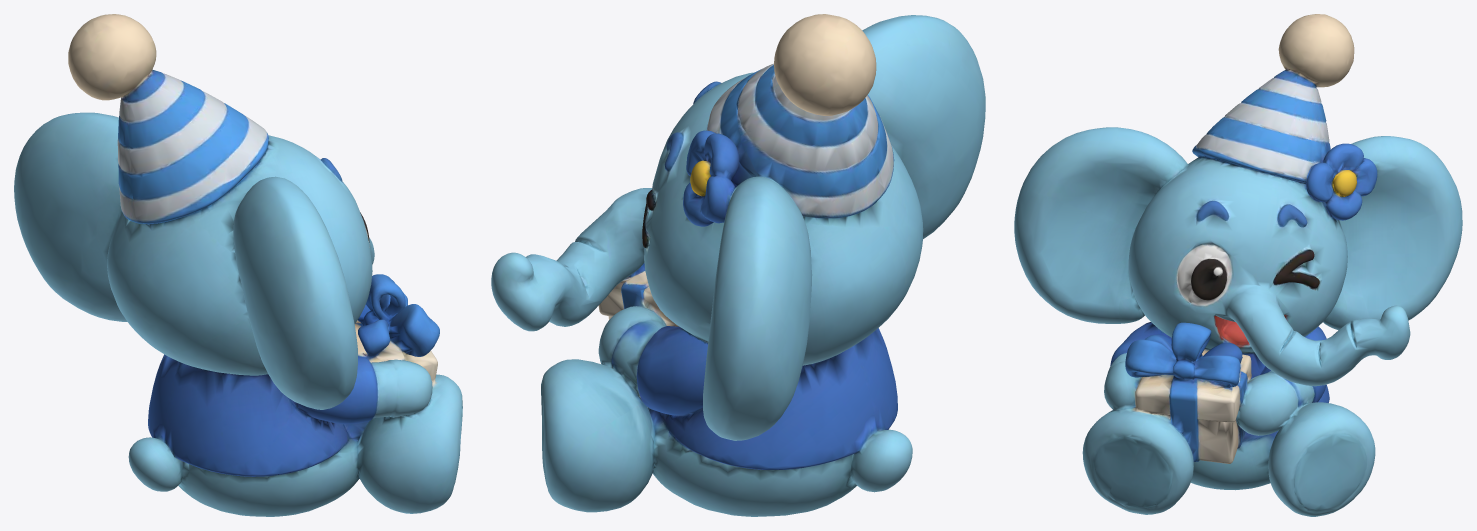
The model's file is partykori-plush.glb.
The picture shows the model from 3 angles, left to right: view 1: azimuth 30°, elevation 25°; view 2: azimuth 150°, elevation 25°; view 3: azimuth 270°, elevation 25°; orthographic projection. The views are drawn at different scales.
Parts seen in each view (by area): view 1: tripo_node_8496a3c4-ffd2-40ba-a374-01243b7d7985; view 2: tripo_node_8496a3c4-ffd2-40ba-a374-01243b7d7985; view 3: tripo_node_8496a3c4-ffd2-40ba-a374-01243b7d7985.
Boxes of the visible parts, <box> form: tripo_node_8496a3c4-ffd2-40ba-a374-01243b7d7985: <box>14,14,462,516</box>; tripo_node_8496a3c4-ffd2-40ba-a374-01243b7d7985: <box>491,14,985,516</box>; tripo_node_8496a3c4-ffd2-40ba-a374-01243b7d7985: <box>1014,14,1462,516</box>.
Bounding box in the file's own units: 0.6556 × 0.9949 × 0.9997.
1 material, 1 textured.
